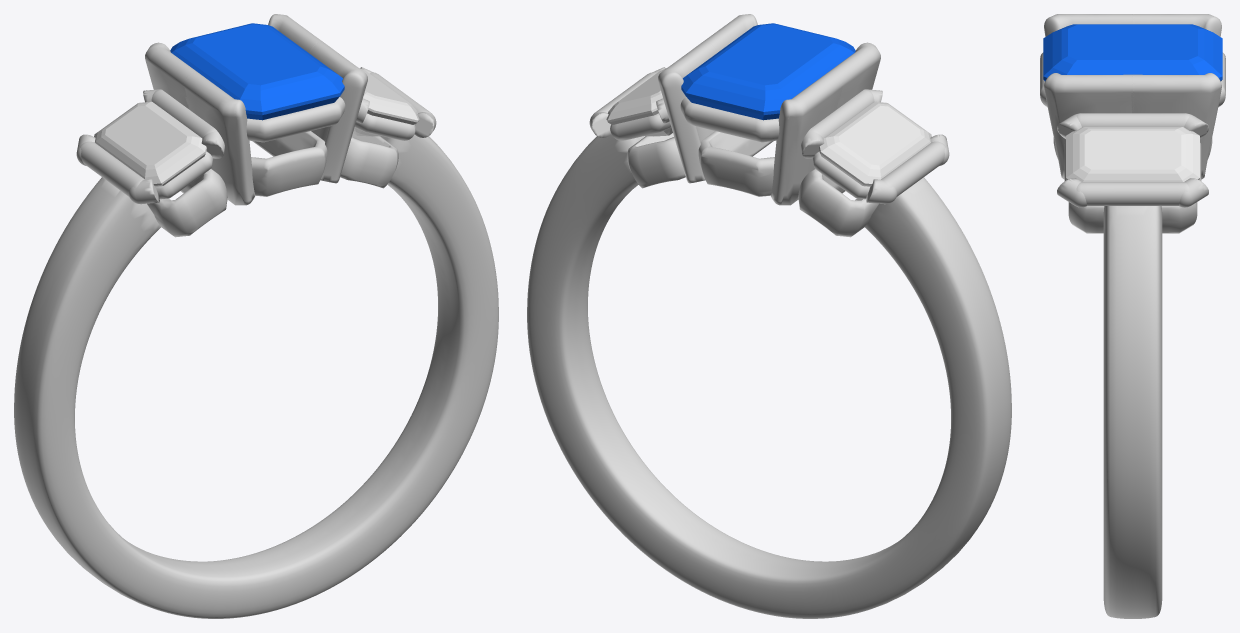
Rendered from bluesapphire-emerald-platinum-halfmoonbezel-straightband-3stone.glb.
3 renders of one model, left to right at view 1: azimuth 30°, elevation 25°; view 2: azimuth 150°, elevation 25°; view 3: azimuth 270°, elevation 25°, orthographic.
Visible parts, largest first — view 1: metal.001, stone.002, side.002, side.003; view 2: metal.001, stone.002, side.002, side.003; view 3: metal.001, stone.002, side.003.
Part boxes in pixels (bbox=[...]): metal.001: bbox=[14, 14, 498, 618]; stone.002: bbox=[170, 23, 344, 120]; side.002: bbox=[94, 101, 206, 186]; side.003: bbox=[353, 68, 419, 136]; metal.001: bbox=[527, 14, 1011, 618]; stone.002: bbox=[681, 23, 855, 120]; side.002: bbox=[819, 101, 931, 186]; side.003: bbox=[606, 68, 672, 136]; metal.001: bbox=[1040, 14, 1225, 618]; stone.002: bbox=[1043, 24, 1222, 81]; side.003: bbox=[1066, 127, 1199, 181].
Size of the model in its own units: 20.1 by 22.75 by 6.94.
